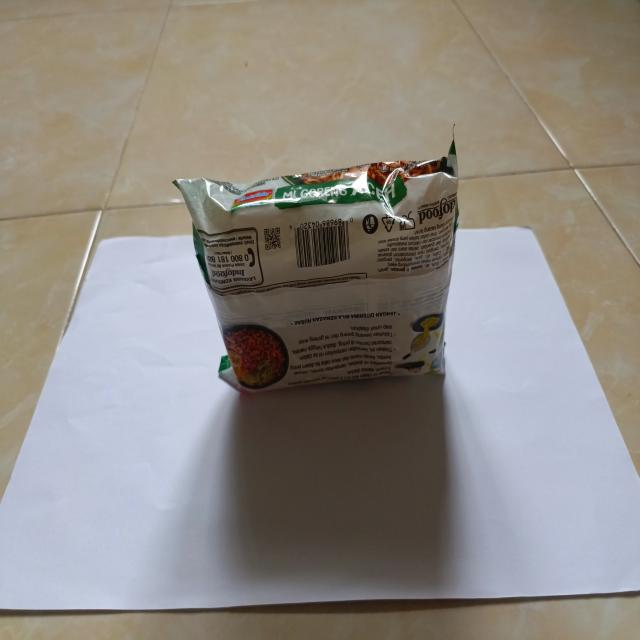gery-salut-coconut: (171, 126, 460, 402)
